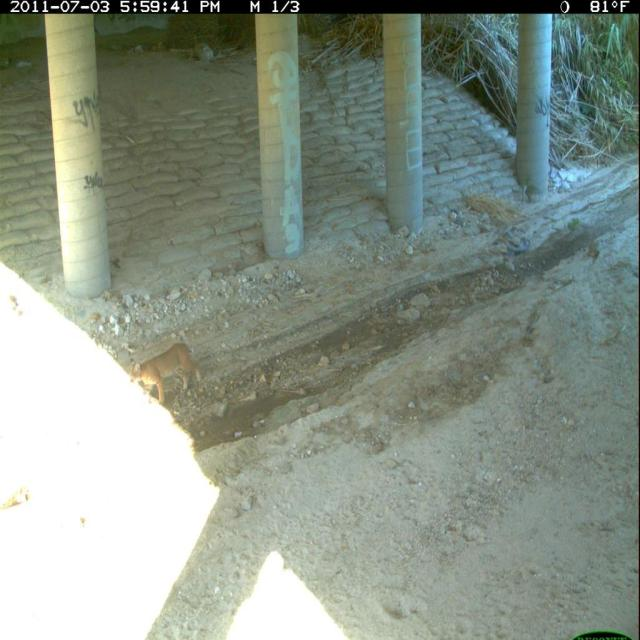bobcat: (126, 338, 205, 413)
